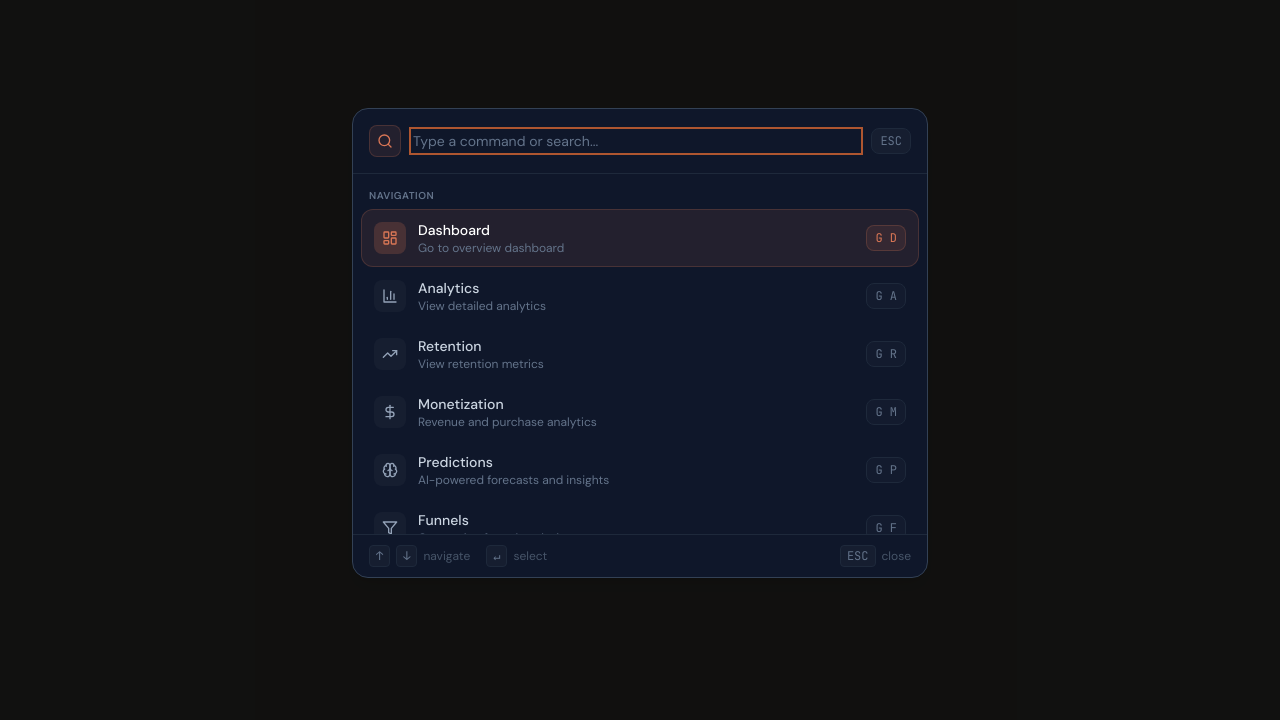
it: CommandPalette › search functionality › should show no results message when no commands match
Type "xyznonexistent" into the dropdown with placeholder "Type a command or search..." at (636, 141), box x1=413 y1=131 x2=859 y2=151
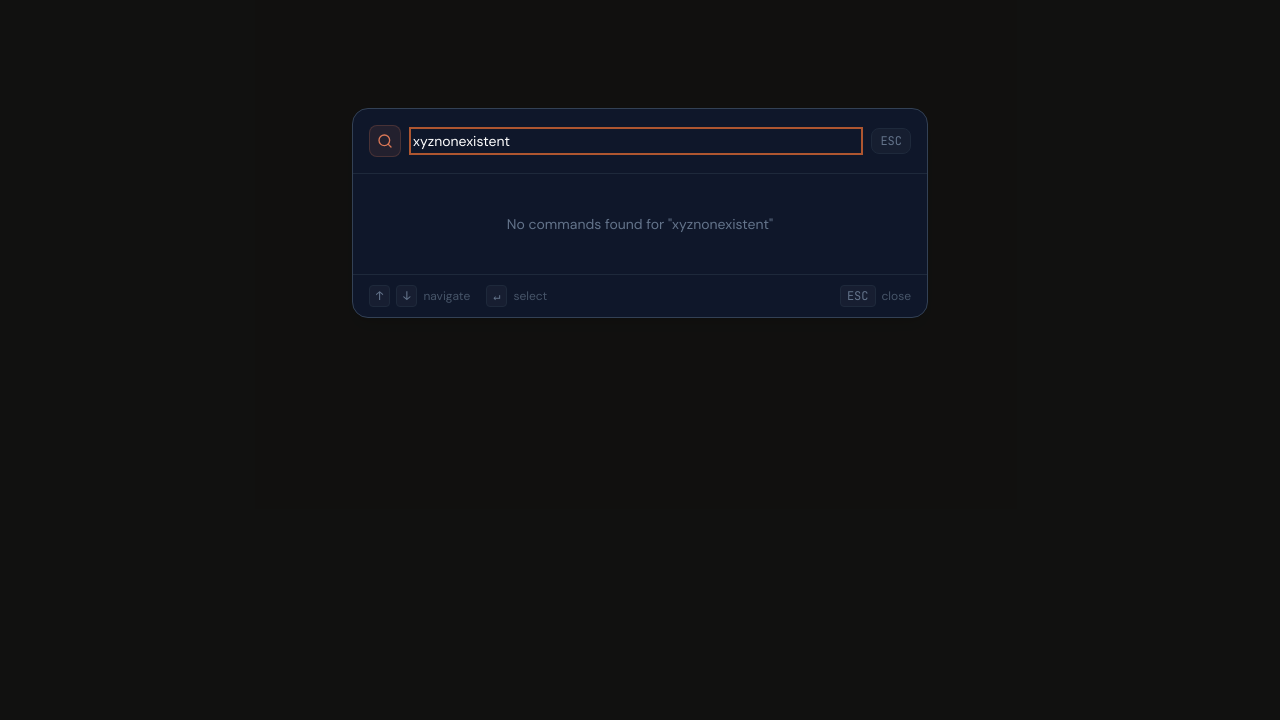
expect the text "No commands found for \"xyznonexistent\"" is shown: met, box x1=507 y1=215 x2=773 y2=233
